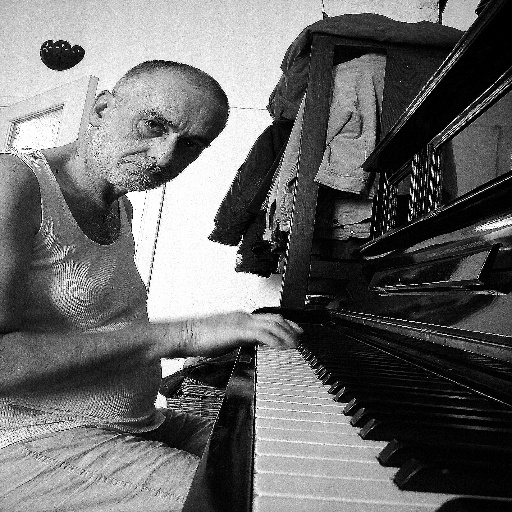hand: (193, 306, 321, 363)
